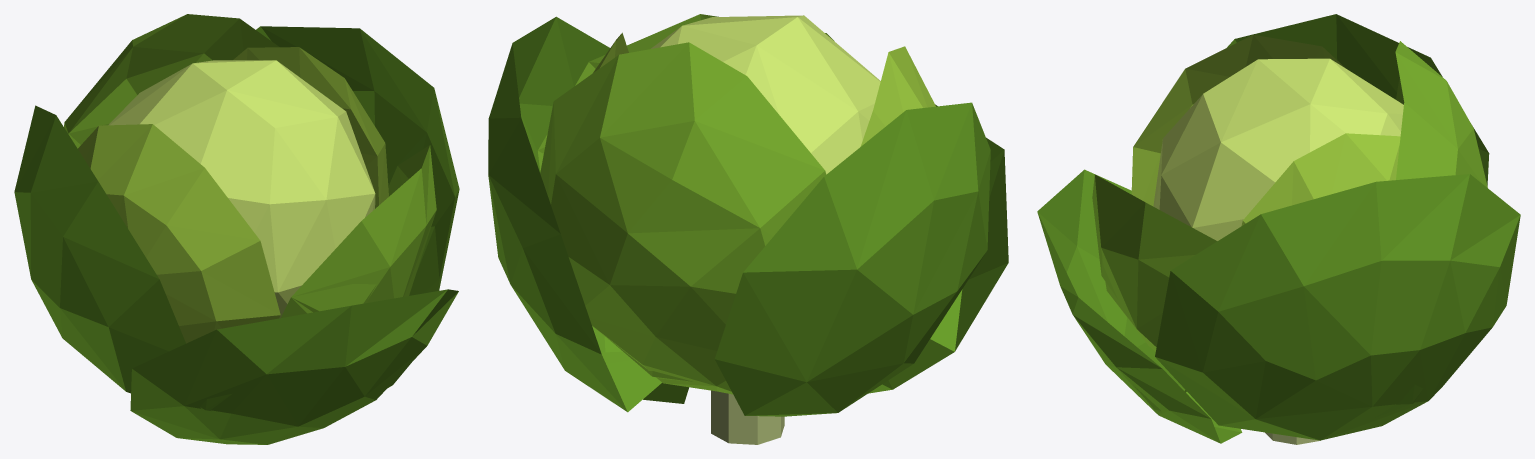
File: Cabbage.glb
The picture shows the model from 3 angles, left to right: view 1: azimuth 30°, elevation 25°; view 2: azimuth 150°, elevation 25°; view 3: azimuth 270°, elevation 25°; orthographic projection. The views are drawn at different scales.
Parts seen in each view (by area): view 1: Cabbage; view 2: Cabbage; view 3: Cabbage.
Part boxes in pixels (left/top/right/bottom): Cabbage: left=14, top=14, right=459, bottom=444; Cabbage: left=488, top=14, right=1008, bottom=444; Cabbage: left=1037, top=14, right=1520, bottom=444.
Bounding box in the file's own units: 0.4007 × 0.3703 × 0.427.
